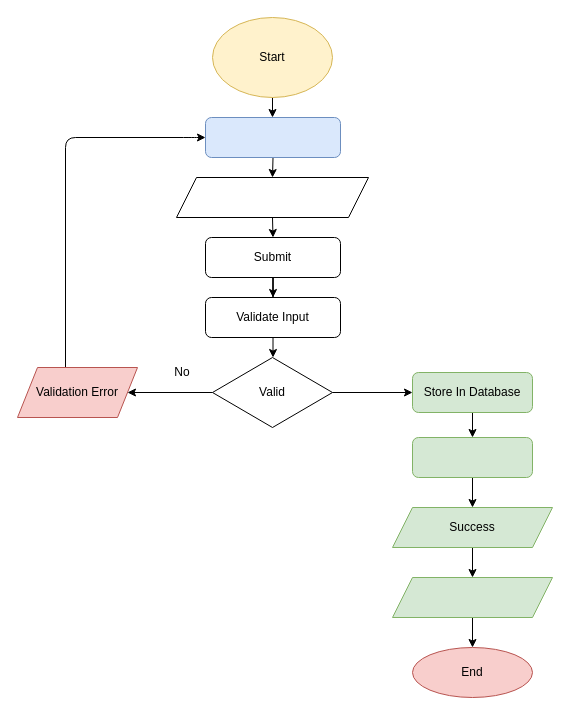
This 570x715 diagram has some shape labels left out. The shapes that lost their labels are listed below. From the top down, each one's box as (x1, y1, x2, y2) in pixels, then its label:
(204, 116, 340, 158): Registration Form
(176, 176, 368, 218): Insert Information
(412, 436, 532, 478): Upload Profile
(392, 576, 552, 618): Display Profile
